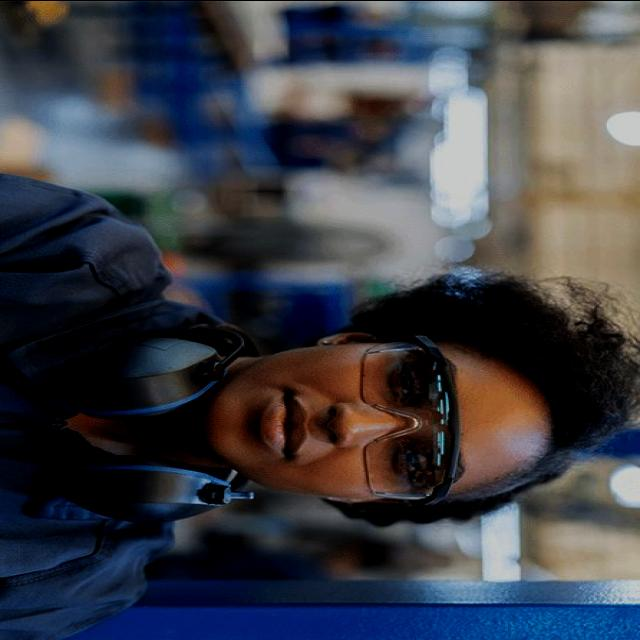Ear Muffs: (54, 330, 278, 524)
Safety Glasses: (348, 331, 458, 513)
